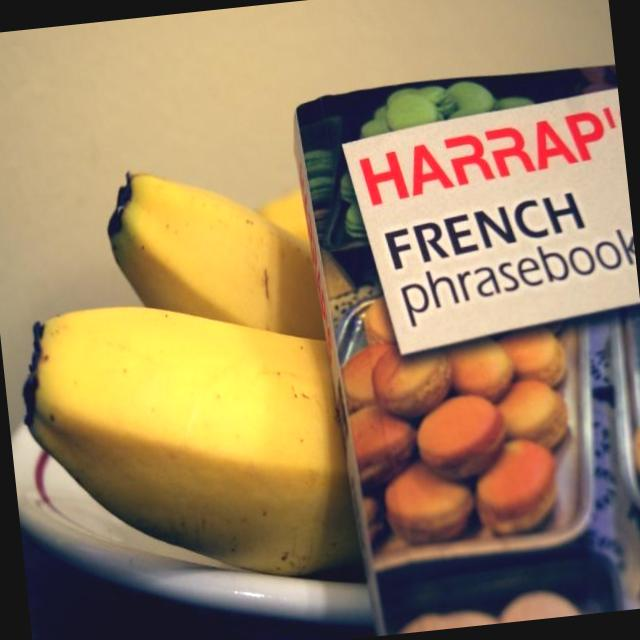Banana: (0, 145, 366, 625)
